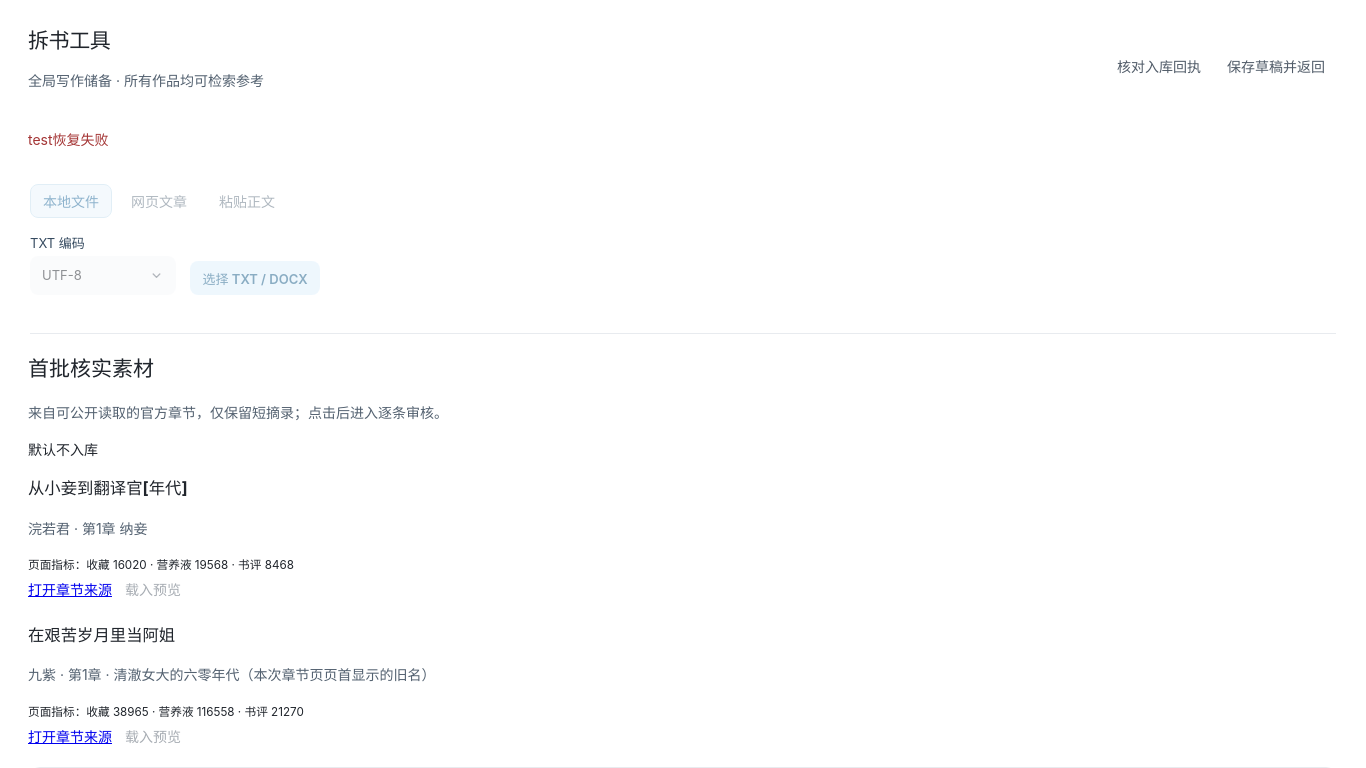
Test case: 初始草稿恢复失败时阻止新来源，核对回执可恢复工作区：{}
Expected: the message "test恢复失败" is shown, [28,131,109,148]
Expected: the button "选择 TXT / DOCX" is disabled, [190,261,320,295]
Click the button "核对入库回执".
click(1159, 66)  # box [1104,49,1214,83]
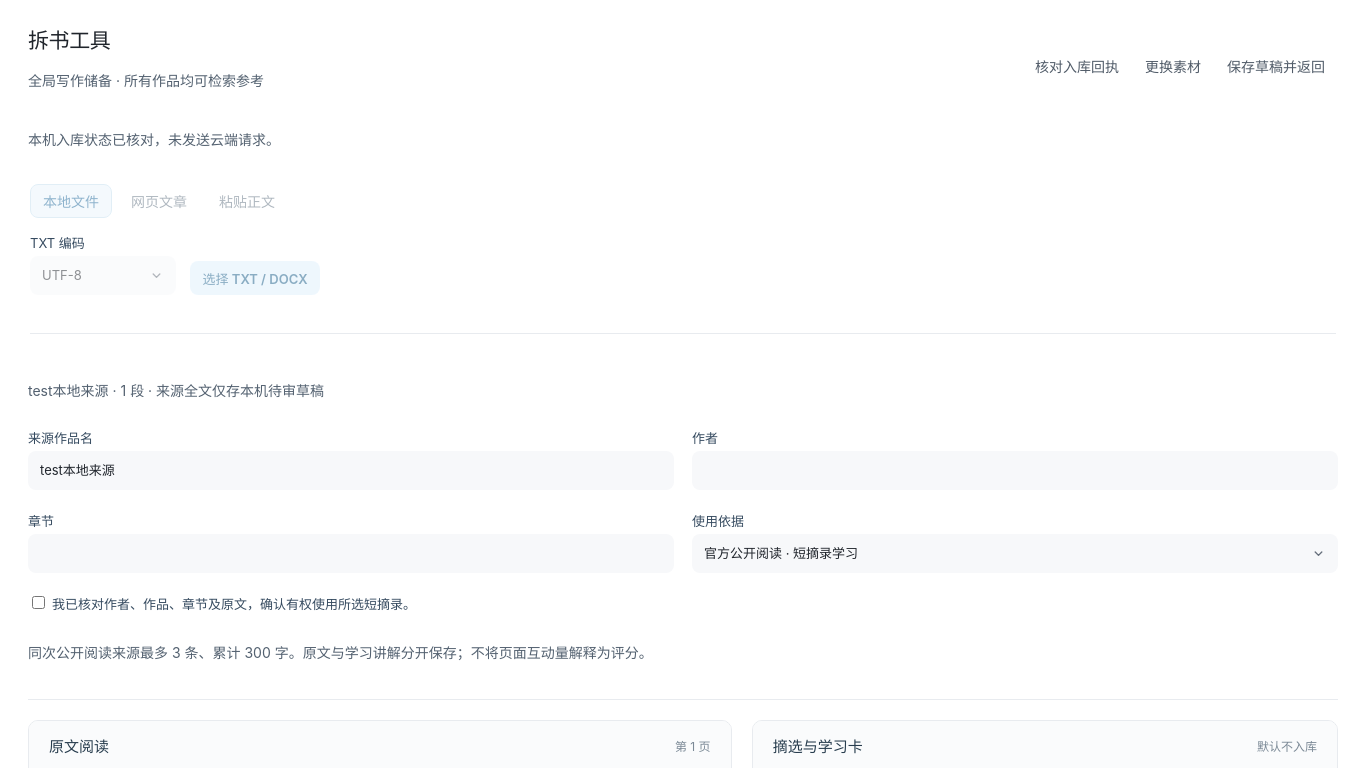
Expected: the field labelled "作者" is empty, [692,451,1338,490]
Expected: the checkbox labelled "我已核对作者、作品、章节及原文，确认有权使用所选短摘录。" is not checked, [32,596,45,609]
